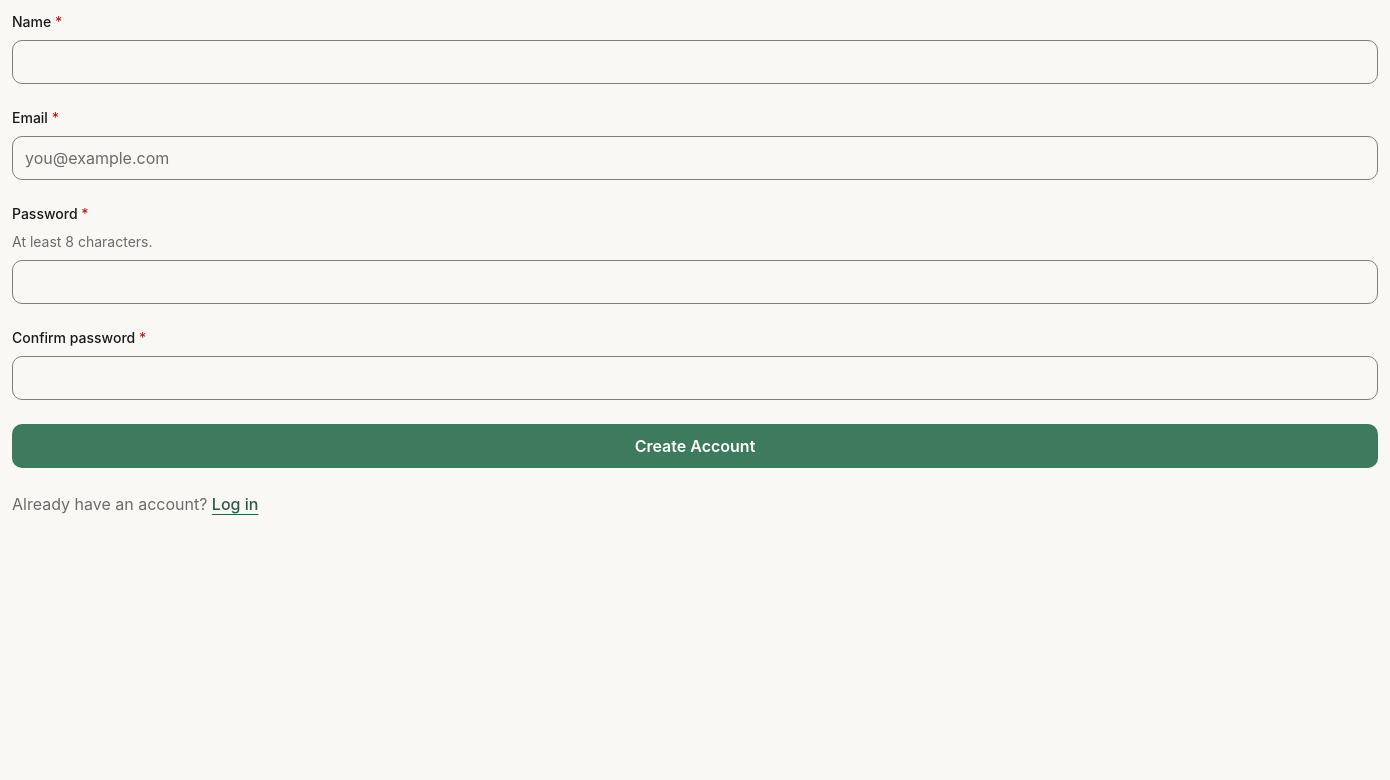
Test: SignUpForm › checks the fields before sending
The width and height of the screenshot is (1390, 780).
Type "not-an-email" into the field labelled "Email *" at [695, 158], box [12, 136, 1378, 180]
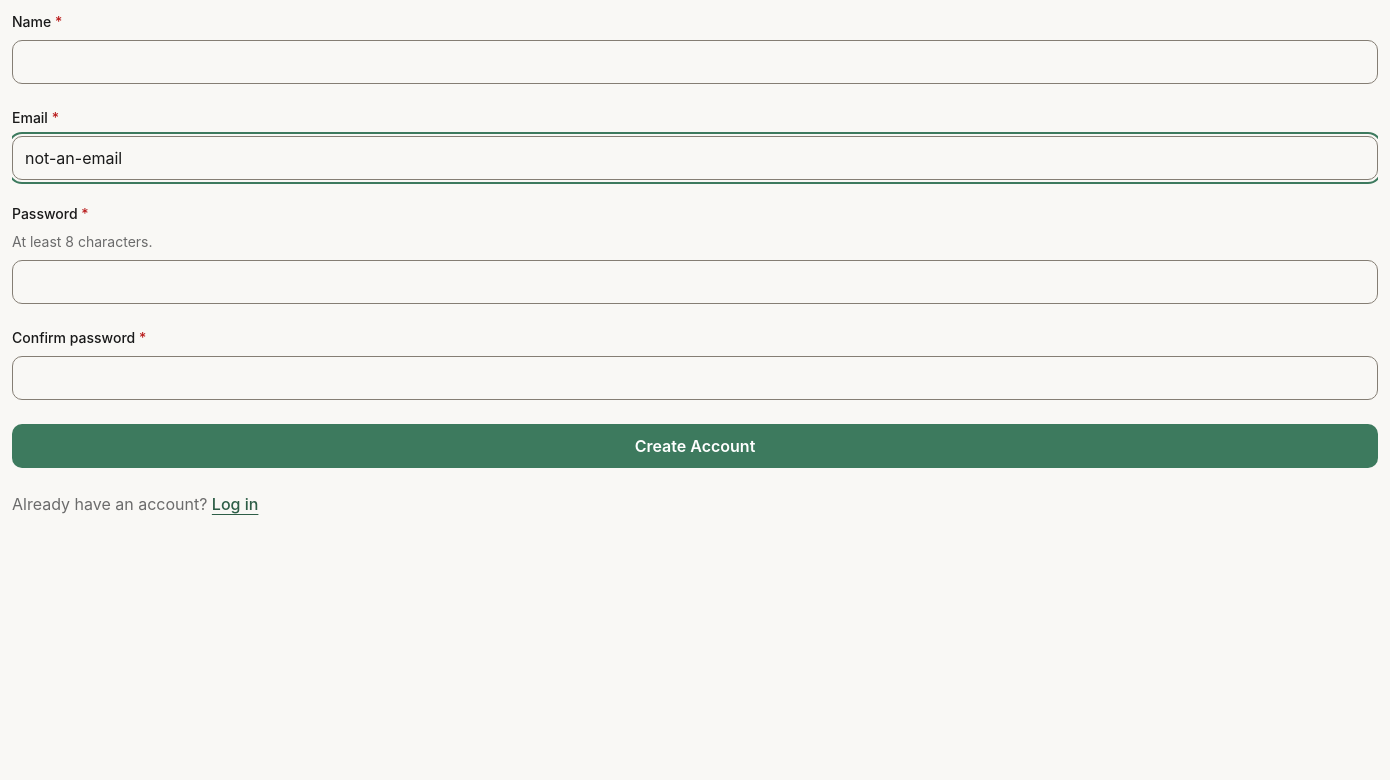
Click the button "Create Account" at [695, 446], box [12, 424, 1378, 468]
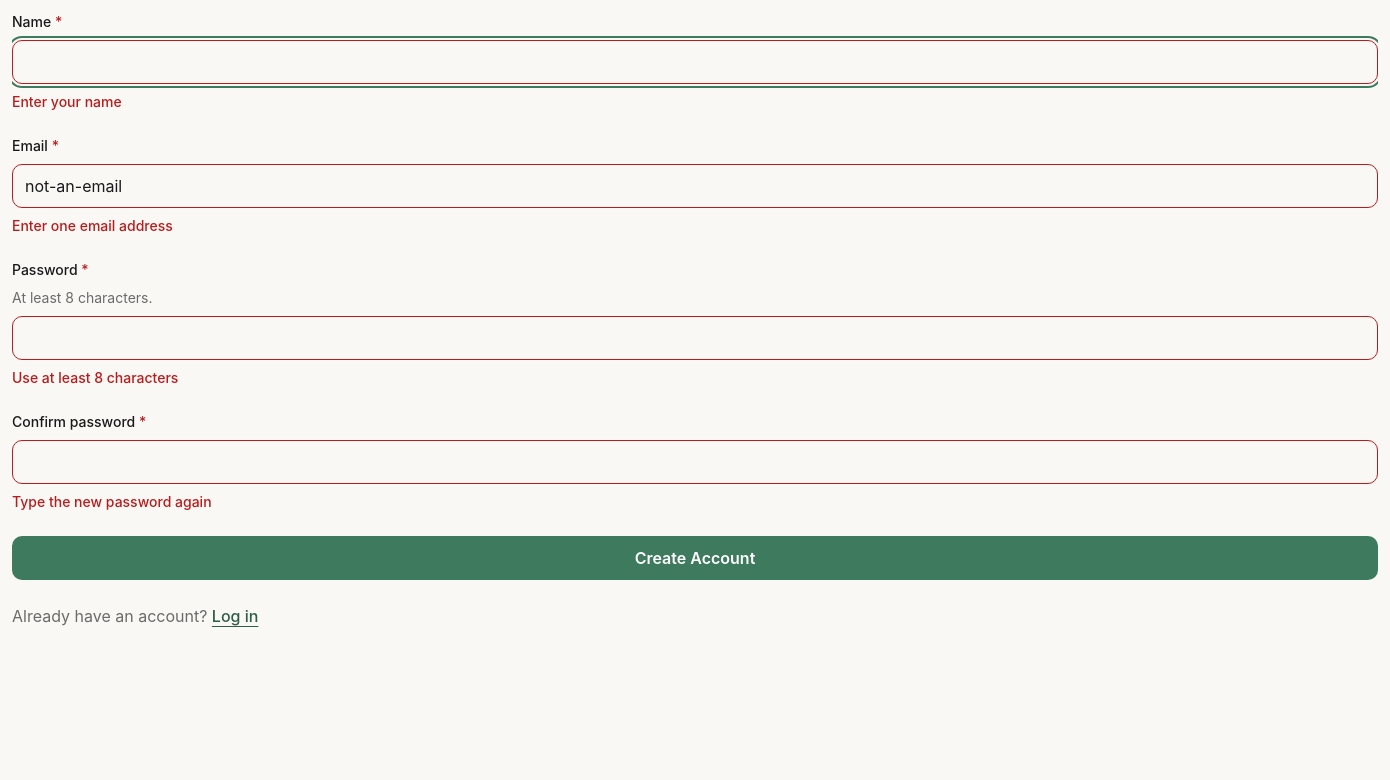
Expected: the text "Enter your name" is shown, [12, 93, 122, 110]
Expected: the text "Enter one email address" is shown, [12, 217, 173, 234]
